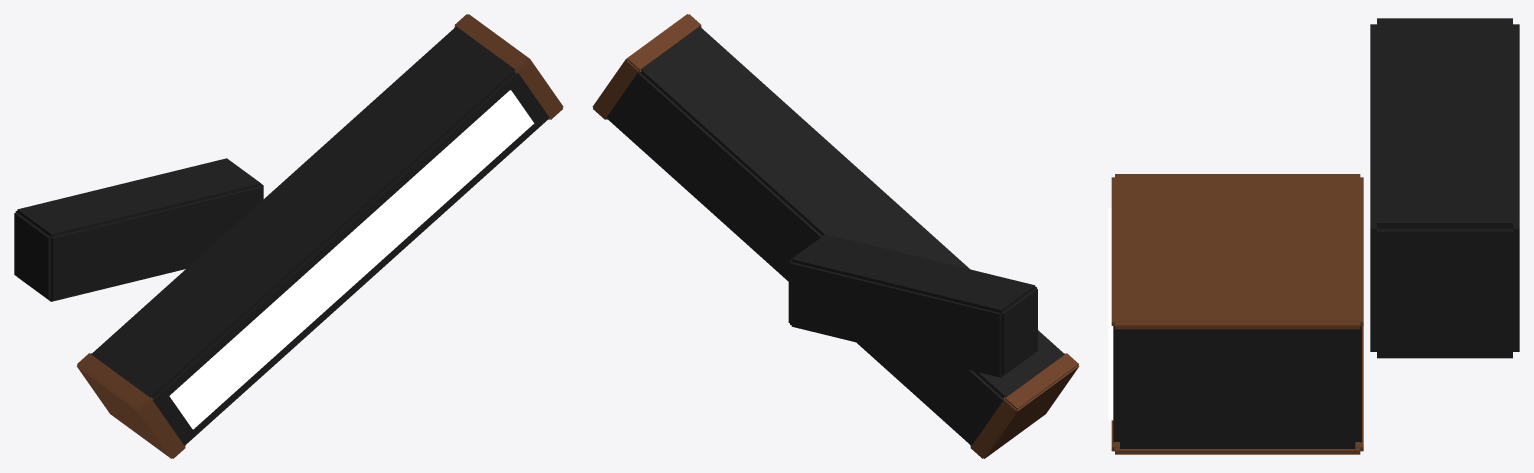
The picture shows the model from 3 angles, left to right: view 1: azimuth 30°, elevation 25°; view 2: azimuth 150°, elevation 25°; view 3: azimuth 270°, elevation 25°; orthographic projection. The views are drawn at different scales.
Parts seen in each view (by area): view 1: aether-cloud-b83; view 2: aether-cloud-b83; view 3: aether-cloud-b83.
Boxes of the visible parts, x1,y1,x2,y2 form: aether-cloud-b83: [14, 14, 563, 458]; aether-cloud-b83: [592, 14, 1079, 458]; aether-cloud-b83: [1108, 18, 1519, 454].
Bounding box in the file's own units: 0.3132 × 0.2086 × 0.124.
